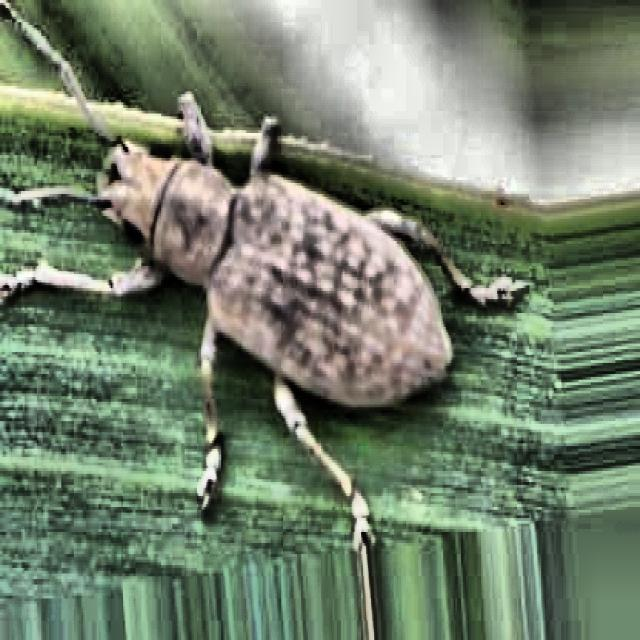Stink bug: (42, 53, 479, 506)
